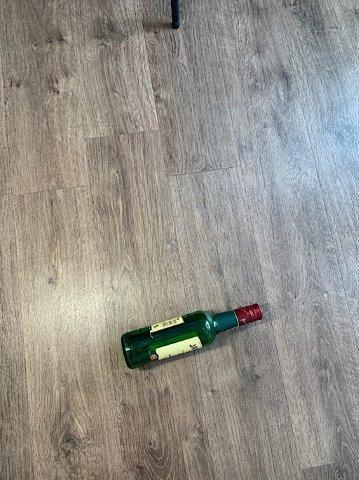botolkaca: (123, 303, 264, 367)
